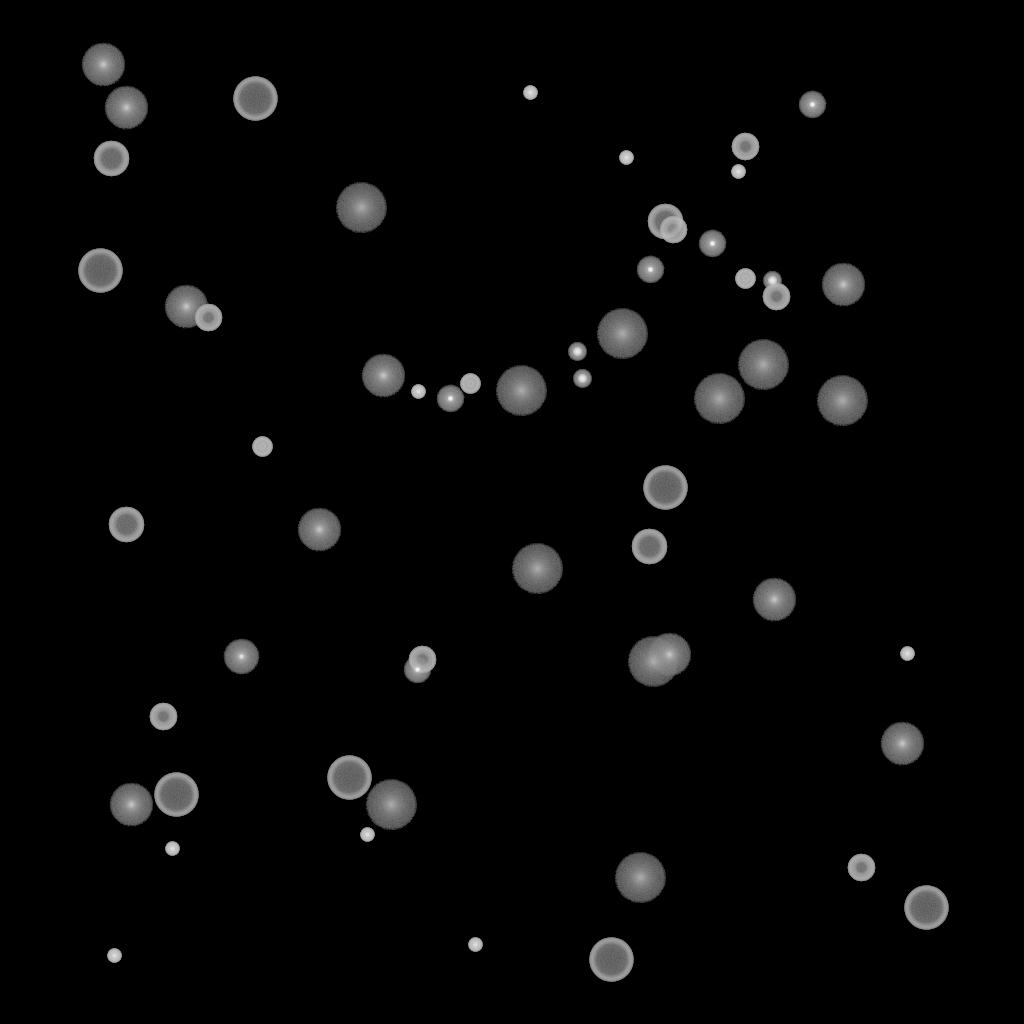depth:-10: (403, 656, 431, 684), (436, 385, 464, 413), (798, 91, 826, 119), (636, 256, 664, 284), (698, 230, 726, 258)
depth:-20: (573, 370, 591, 388), (763, 272, 781, 290), (568, 343, 586, 361)
depth:-30: (360, 828, 374, 842), (900, 647, 914, 661), (165, 842, 179, 856), (468, 938, 482, 952), (523, 86, 537, 100), (619, 151, 633, 165), (731, 165, 745, 179), (107, 949, 121, 963), (411, 385, 425, 399)
depth:-40: (252, 437, 272, 457), (735, 269, 755, 289), (460, 374, 480, 394)
depth:-50: (194, 304, 222, 332), (659, 216, 687, 244), (408, 646, 436, 674), (731, 133, 759, 161), (762, 283, 790, 311), (149, 703, 177, 731), (847, 854, 875, 882)
depth:-60: (108, 507, 144, 543), (631, 529, 667, 565), (647, 204, 683, 240), (93, 141, 129, 177)
depth:-70: (589, 938, 633, 982), (78, 249, 122, 293), (233, 77, 277, 121), (154, 773, 198, 817), (904, 886, 948, 930), (327, 756, 371, 800), (643, 466, 687, 510)
depth:0: (223, 639, 259, 675)
depth:10: (880, 722, 924, 766), (752, 578, 796, 622), (164, 285, 208, 329), (297, 508, 341, 552), (361, 354, 405, 398), (109, 783, 153, 827), (81, 43, 125, 87), (104, 86, 148, 130), (821, 263, 865, 307), (647, 633, 691, 677)
depth:20: (335, 183, 387, 233), (511, 544, 563, 594), (365, 780, 417, 830), (614, 853, 666, 903), (627, 637, 679, 687), (816, 376, 868, 426), (737, 340, 789, 390), (495, 366, 547, 416), (693, 374, 745, 424), (596, 309, 648, 359)
